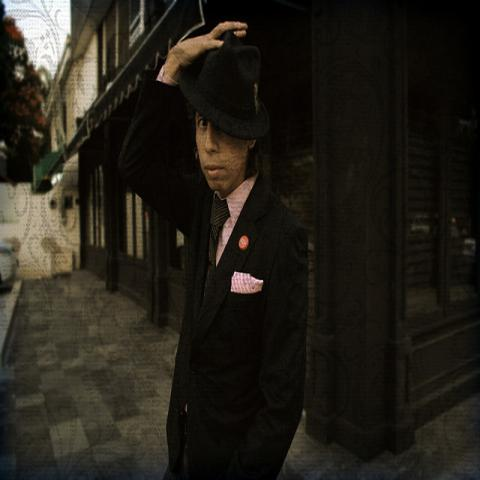car: (0, 240, 18, 293)
